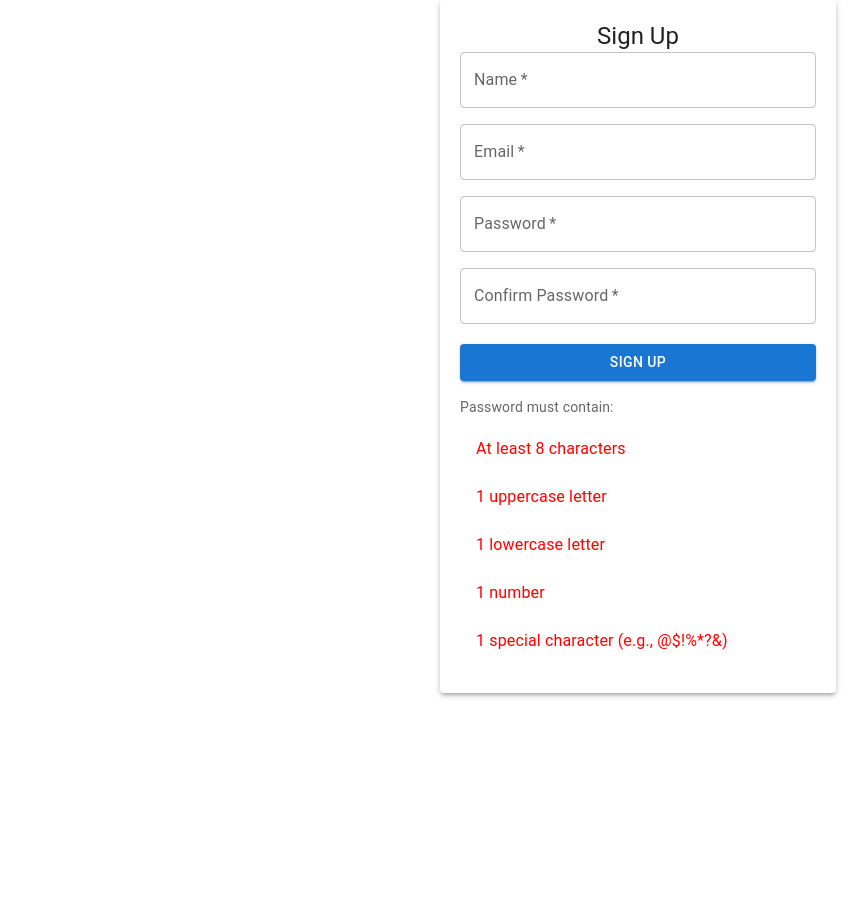
Signup Component › submits the form successfully
Type "Test User" into the field labelled "Name *". click: (638, 80)
box: [460,52,816,108]
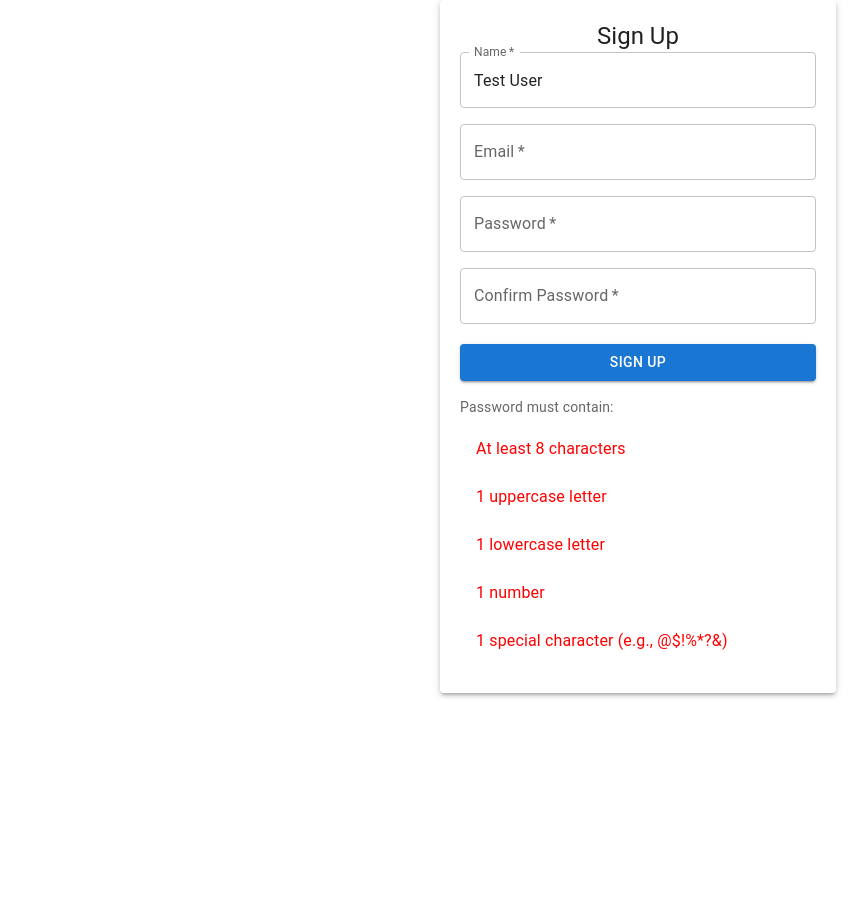
Type "test@example.com" into the field labelled "Email *". click: (638, 152)
box: [460,124,816,180]
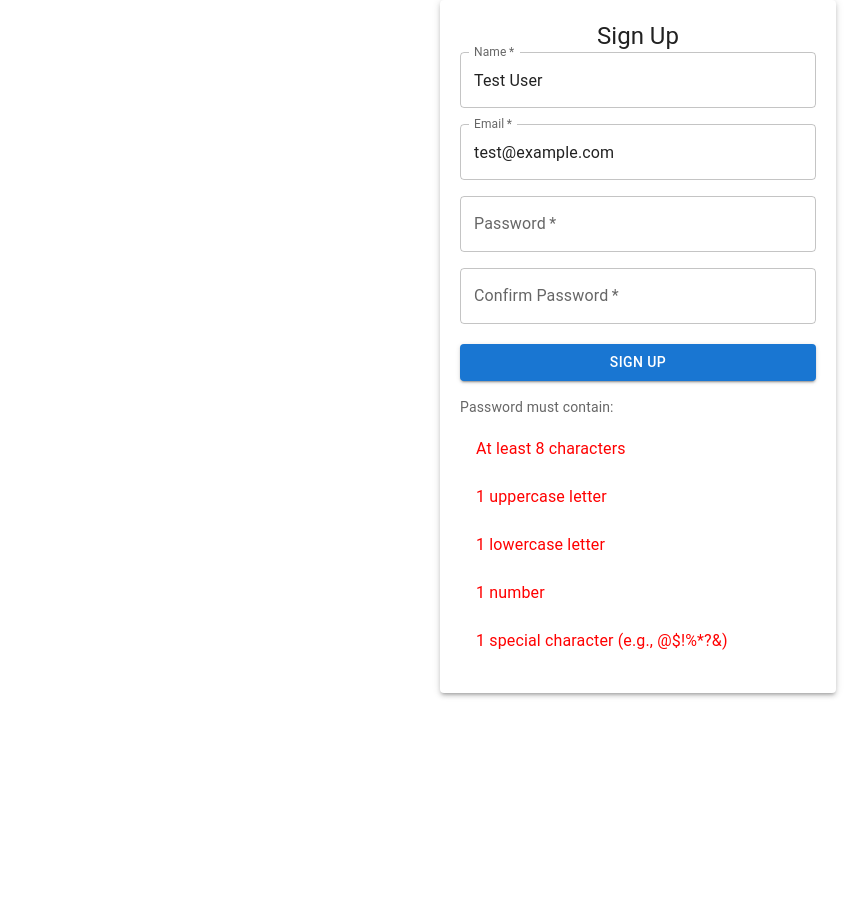
Type "StrongPass1!" into the password field labelled "Password *". click: (638, 224)
box: [460,196,816,252]
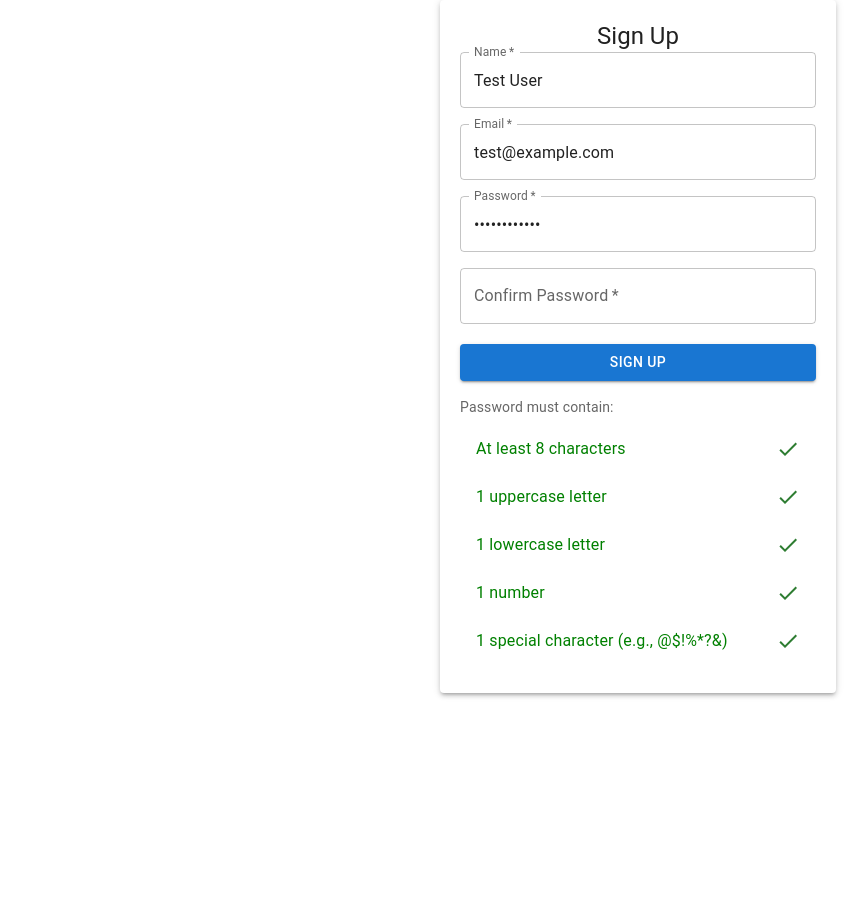
Type "StrongPass1!" into the password field labelled "Confirm Password *". click: (638, 296)
box: [460,268,816,324]
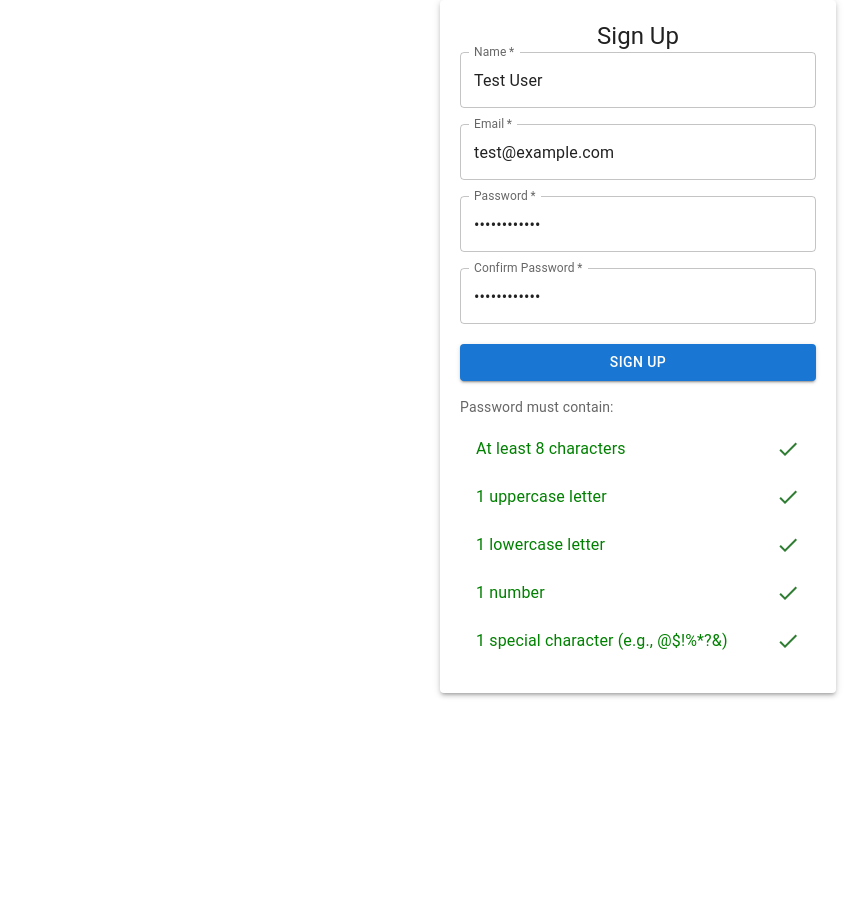
Click the button "Sign Up". click: (638, 362)
box: [460,344,816,380]
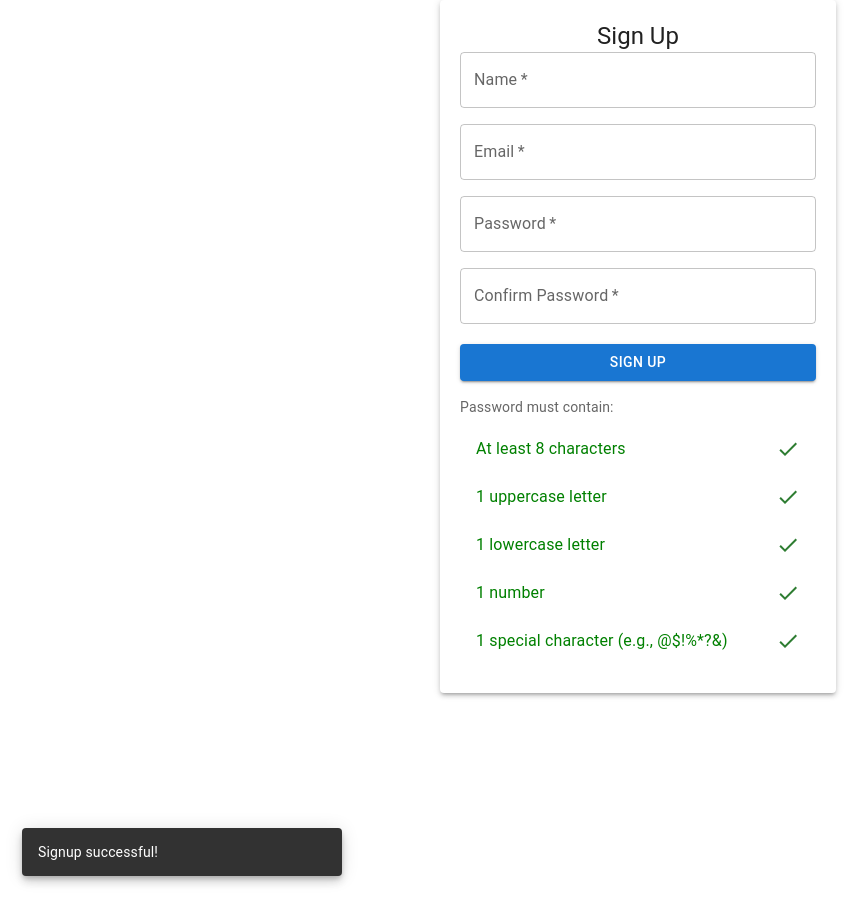
Check: the text "Signup successful!" is shown, box [38,844,158,860]
